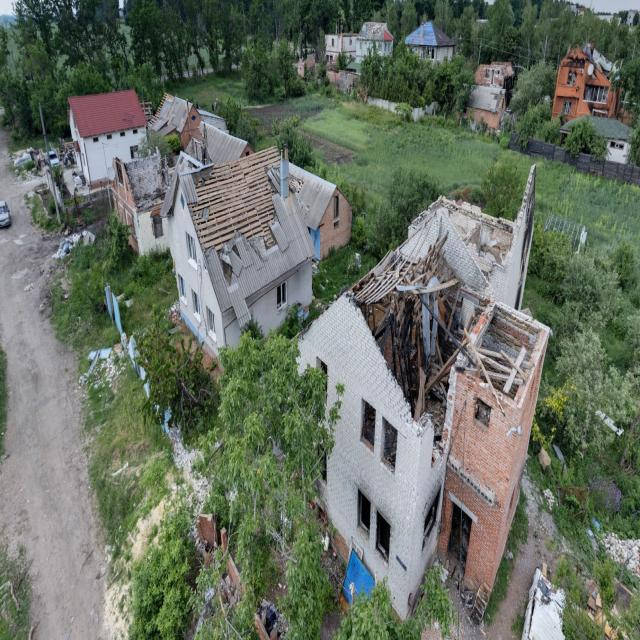broken_window: (380, 416, 397, 472), (375, 509, 391, 562), (360, 397, 375, 452), (356, 487, 371, 537), (474, 396, 491, 428)
building: (284, 167, 550, 625), (66, 87, 148, 189), (404, 20, 455, 67)
roof: (67, 88, 146, 138)
